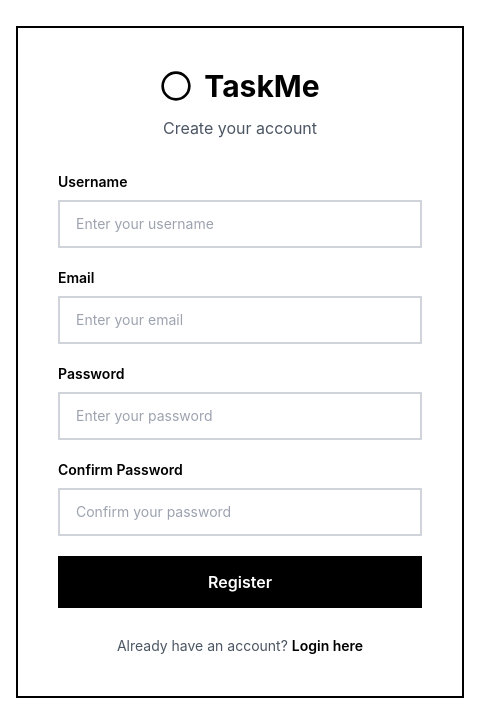
Test: Register Component › shows validation error when passwords do not match
Type "testuser" into the field labelled "Username" at (240, 224), box [58,200,422,248]
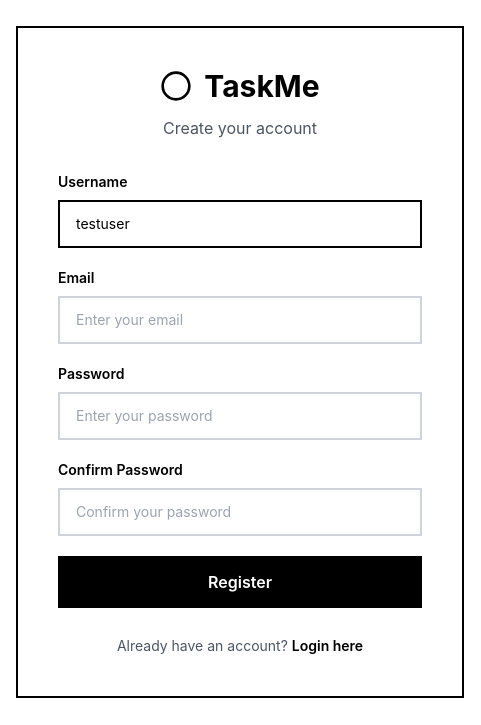
Type "test@example.com" into the field labelled "Email" at (240, 320), box [58,296,422,344]
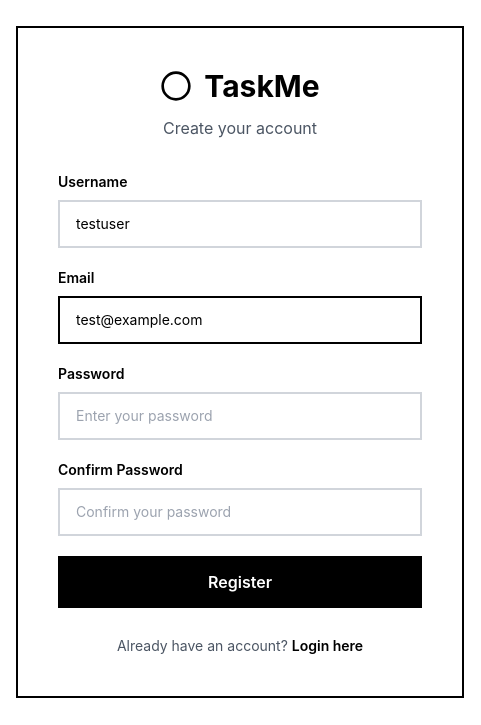
Type "password123" into the password field labelled "Password" at (240, 416), box [58,392,422,440]
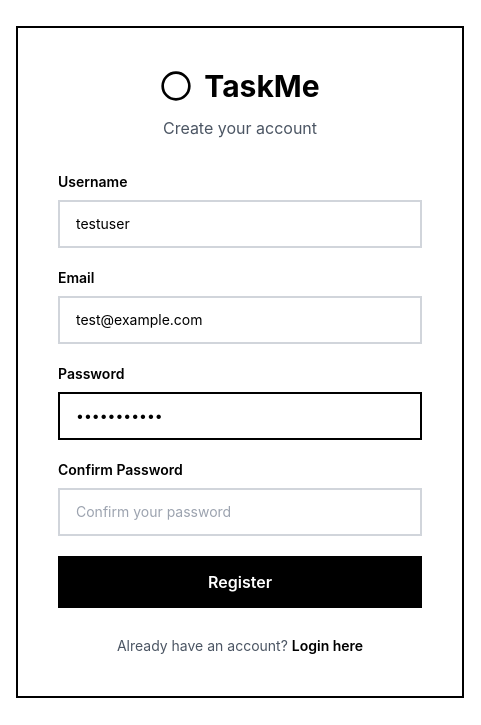
Type "differentpassword" into the password field labelled "Confirm Password" at (240, 512), box [58,488,422,536]
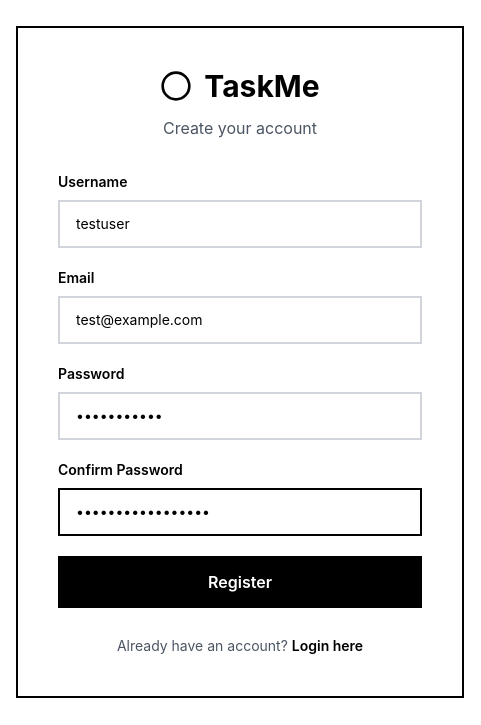
Click the button "Register" at (240, 582), box [58,556,422,608]
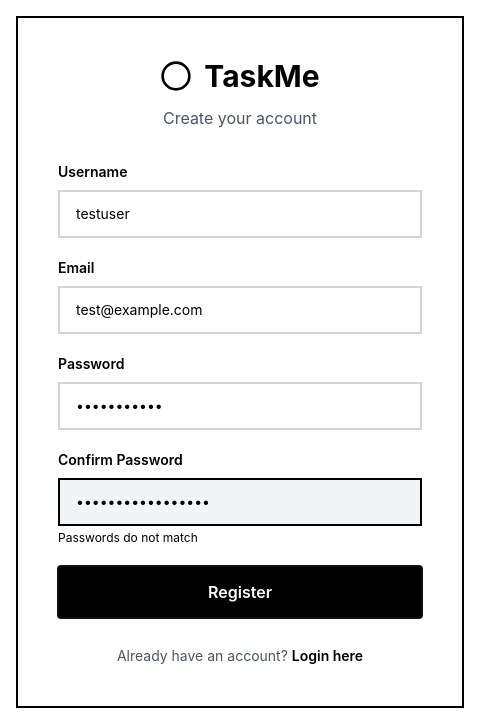
Expected: the text "Passwords do not match" is shown, [58,530,198,545]
